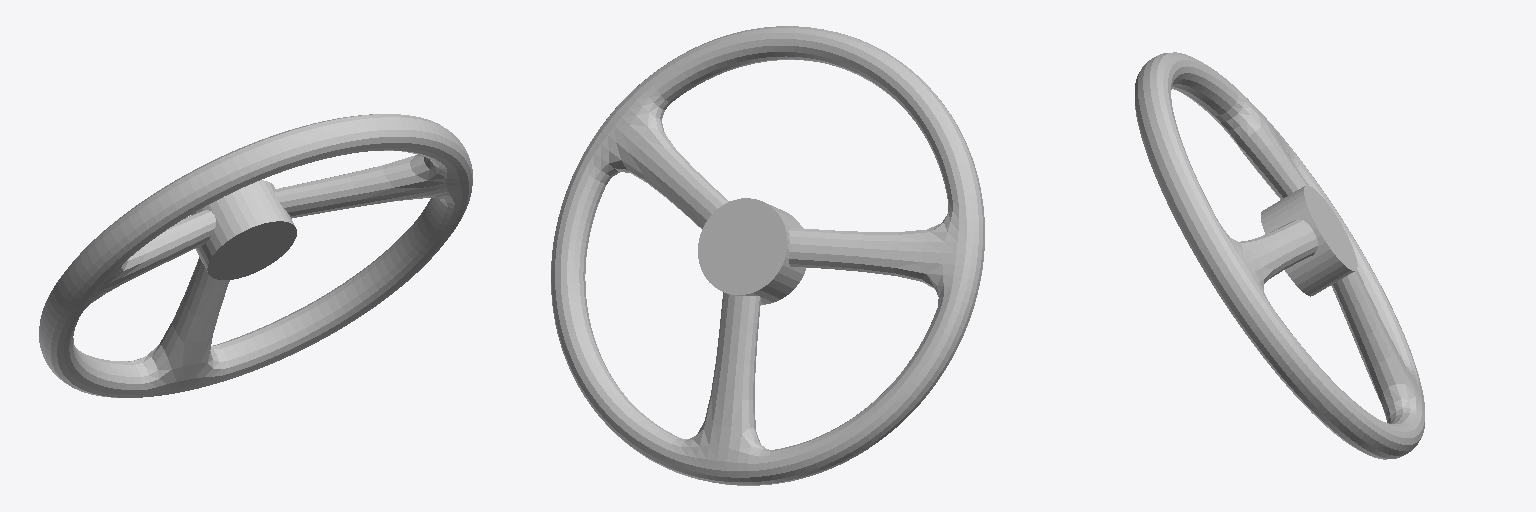
File: steeringpos.obj
3 renders of one model, left to right at view 1: azimuth 30°, elevation 25°; view 2: azimuth 150°, elevation 25°; view 3: azimuth 270°, elevation 25°, orthographic.
Visible parts, largest first — view 1: Tube_2; view 2: Tube_2; view 3: Tube_2.
Boxes of the visible parts, box(x1,y1,x2,y2) form: Tube_2: box(39, 114, 472, 397); Tube_2: box(551, 26, 984, 485); Tube_2: box(1135, 52, 1424, 459).
Size of the model in its own units: 0.4637 by 0.3859 by 0.2864.